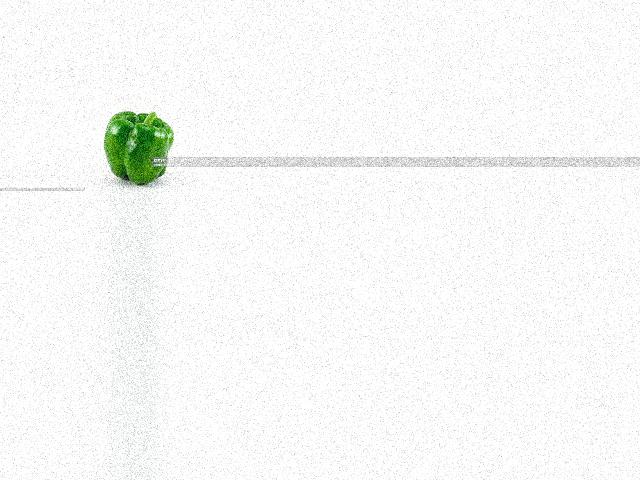bell_pepper: (101, 107, 172, 187)
